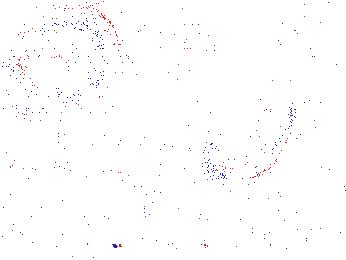moon jellyfish: (22, 8, 124, 111), (211, 91, 293, 180), (5, 63, 99, 123), (124, 18, 216, 64)
